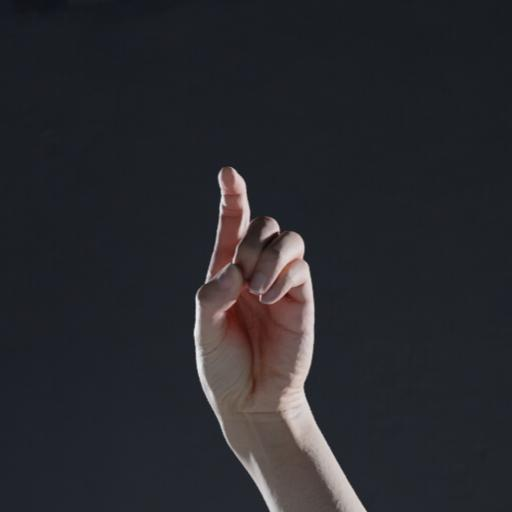X: (190, 163, 319, 415)
